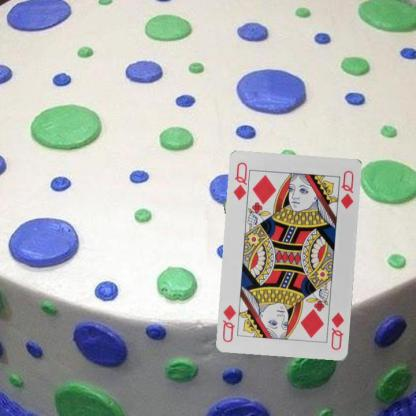Qd: (231, 160, 252, 205), (328, 310, 346, 352)
